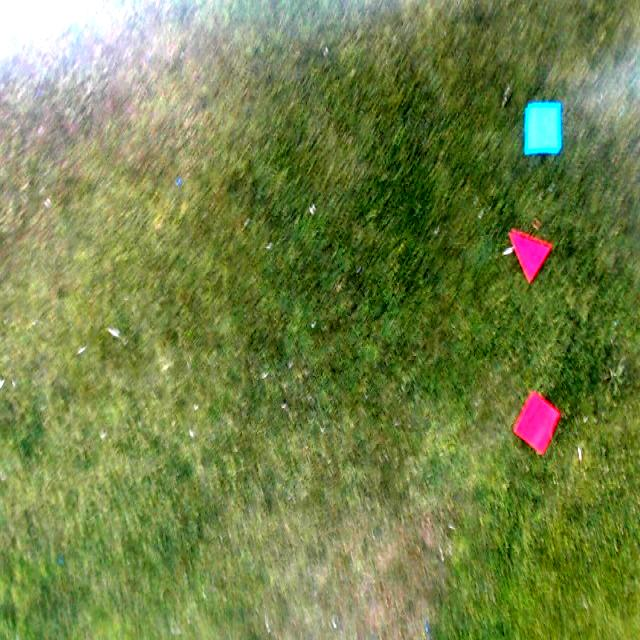blue_square: (526, 102, 562, 151)
red_square: (515, 393, 559, 455)
red_triangle: (512, 230, 551, 282)
